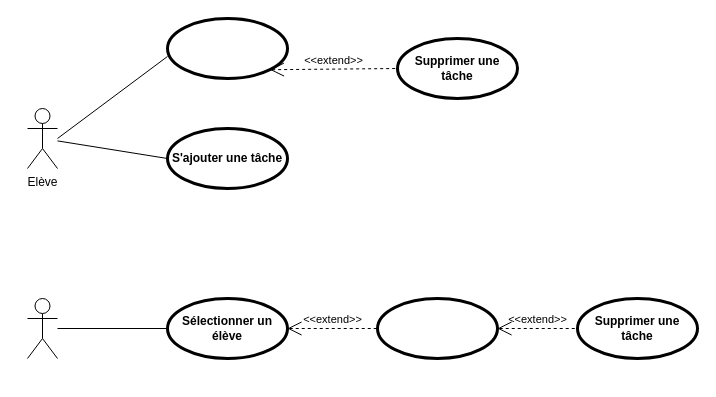
This 716x397 diagram has some shape labels left out. Here are the shapes that lost their labels. From the top down, the centre of each, then its label:
the point at 227,48: Voir les tâches
the point at 42,328: Bénévole
the point at 437,328: Crèer une tâche pour un élève
